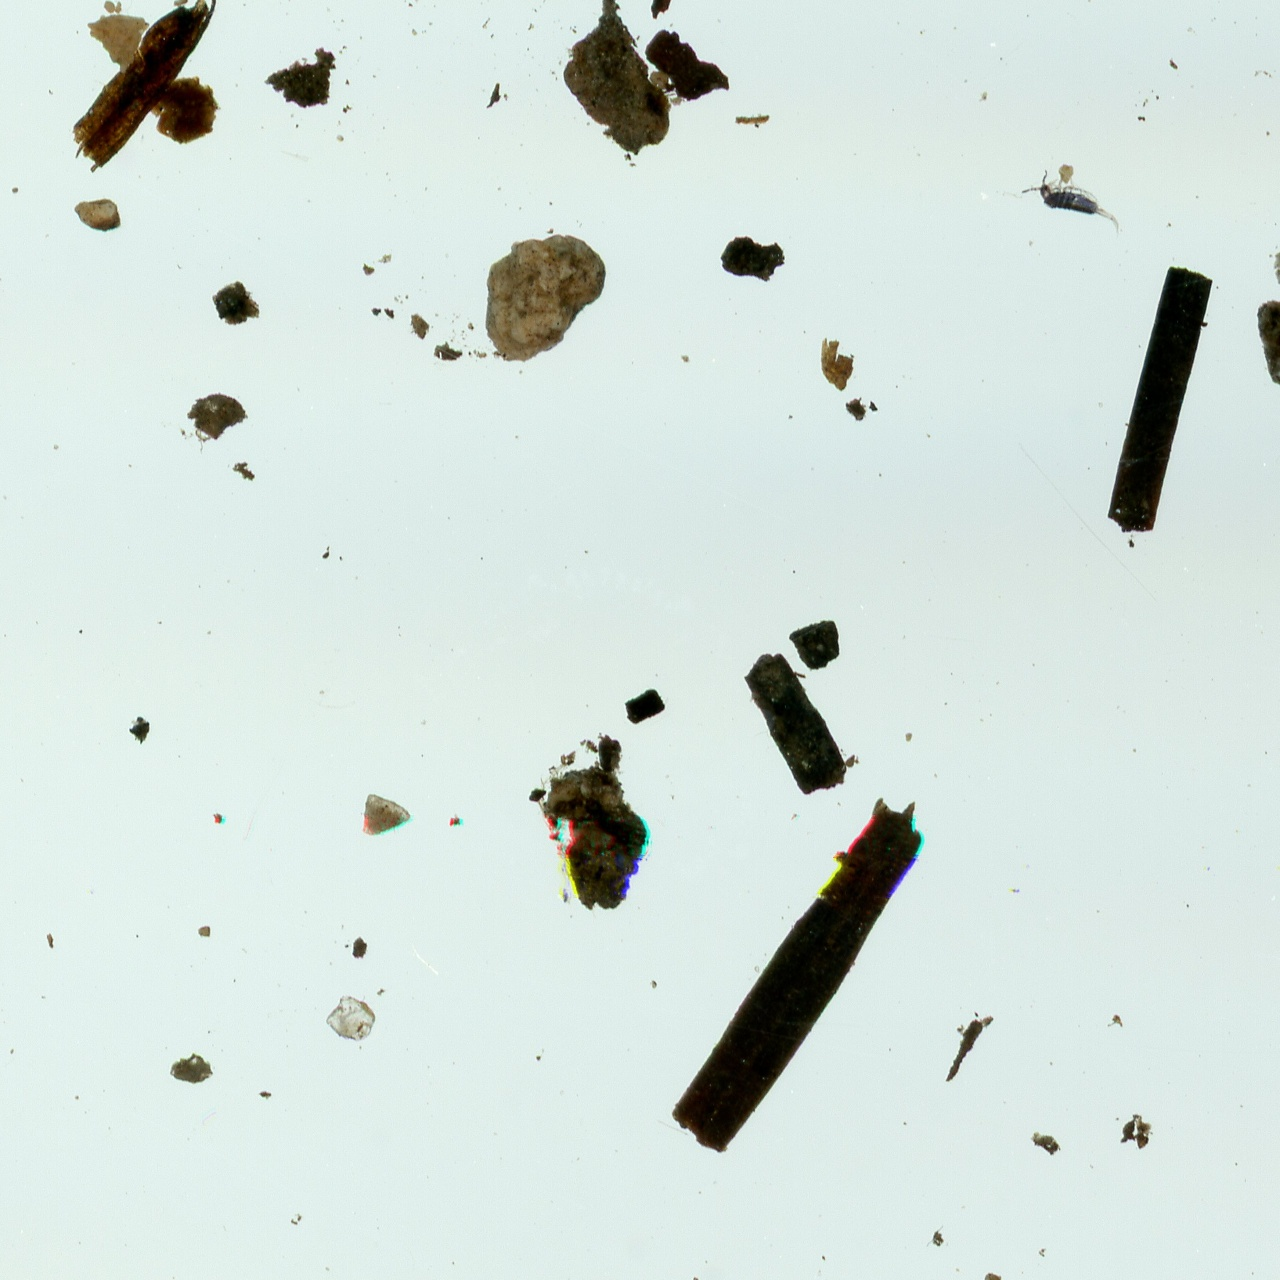arthropod: (1017, 165, 1128, 225)
